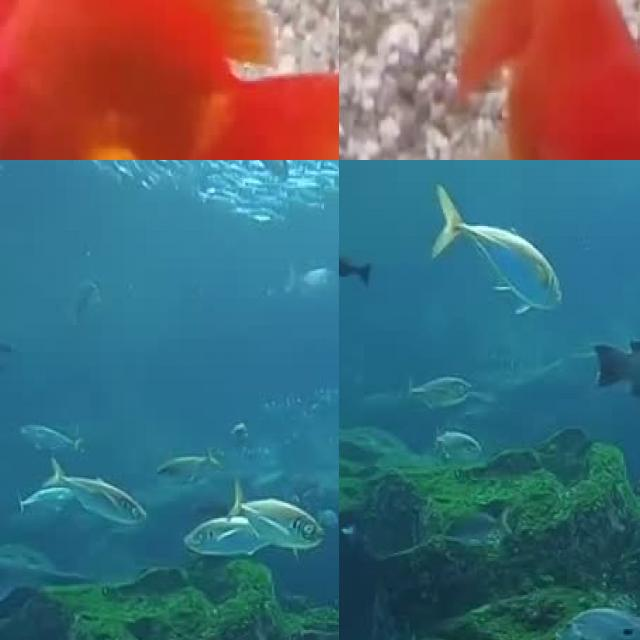fish: (0, 0, 339, 160), (419, 178, 571, 320)
